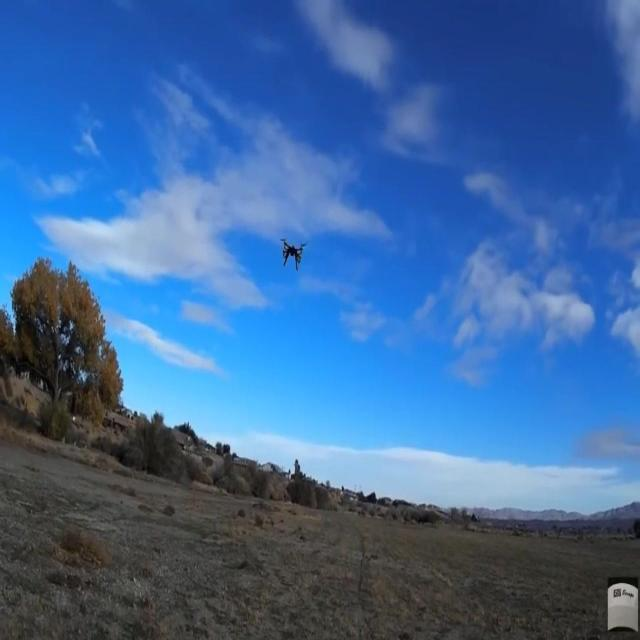drone: (278, 235, 308, 277)
